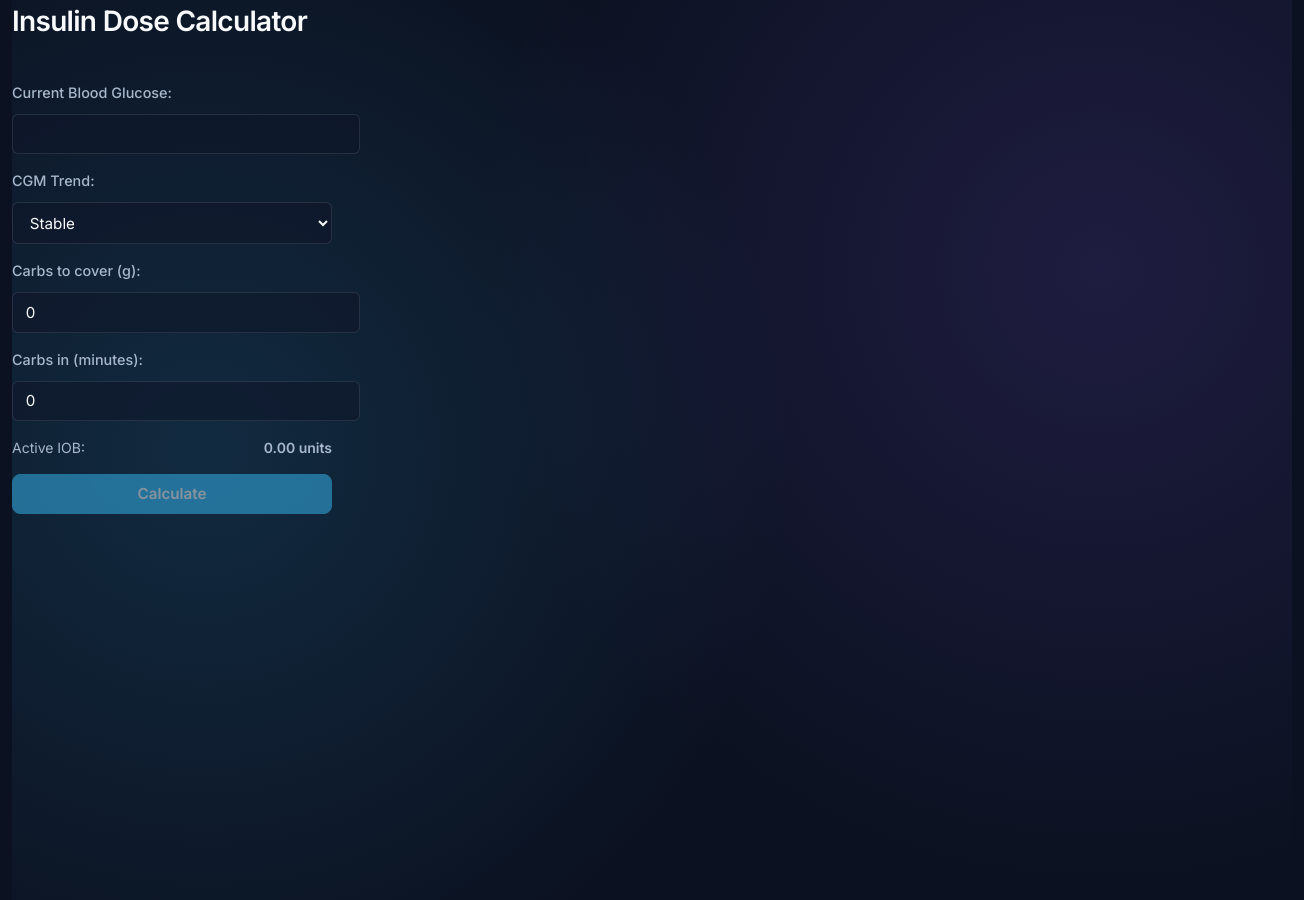
Scenario: DoseCalculator › warnings container has role=alert and aria-live=assertive
The width and height of the screenshot is (1304, 900).
Type "50" into the number field labelled "Current Blood Glucose:" at (186, 134), box [12,114,360,154]
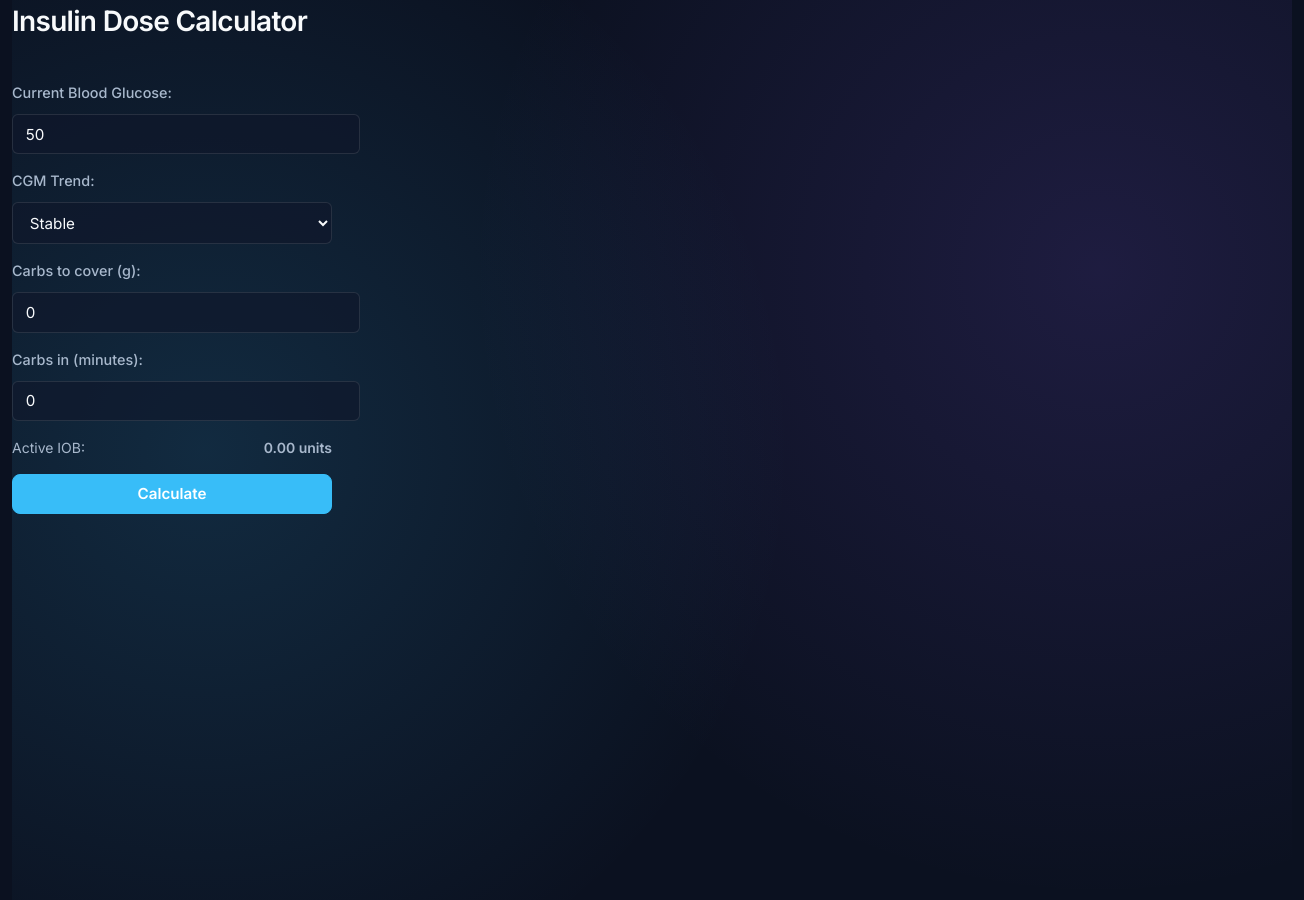
Click the button "Calculate" at (172, 494), box [12,474,332,514]
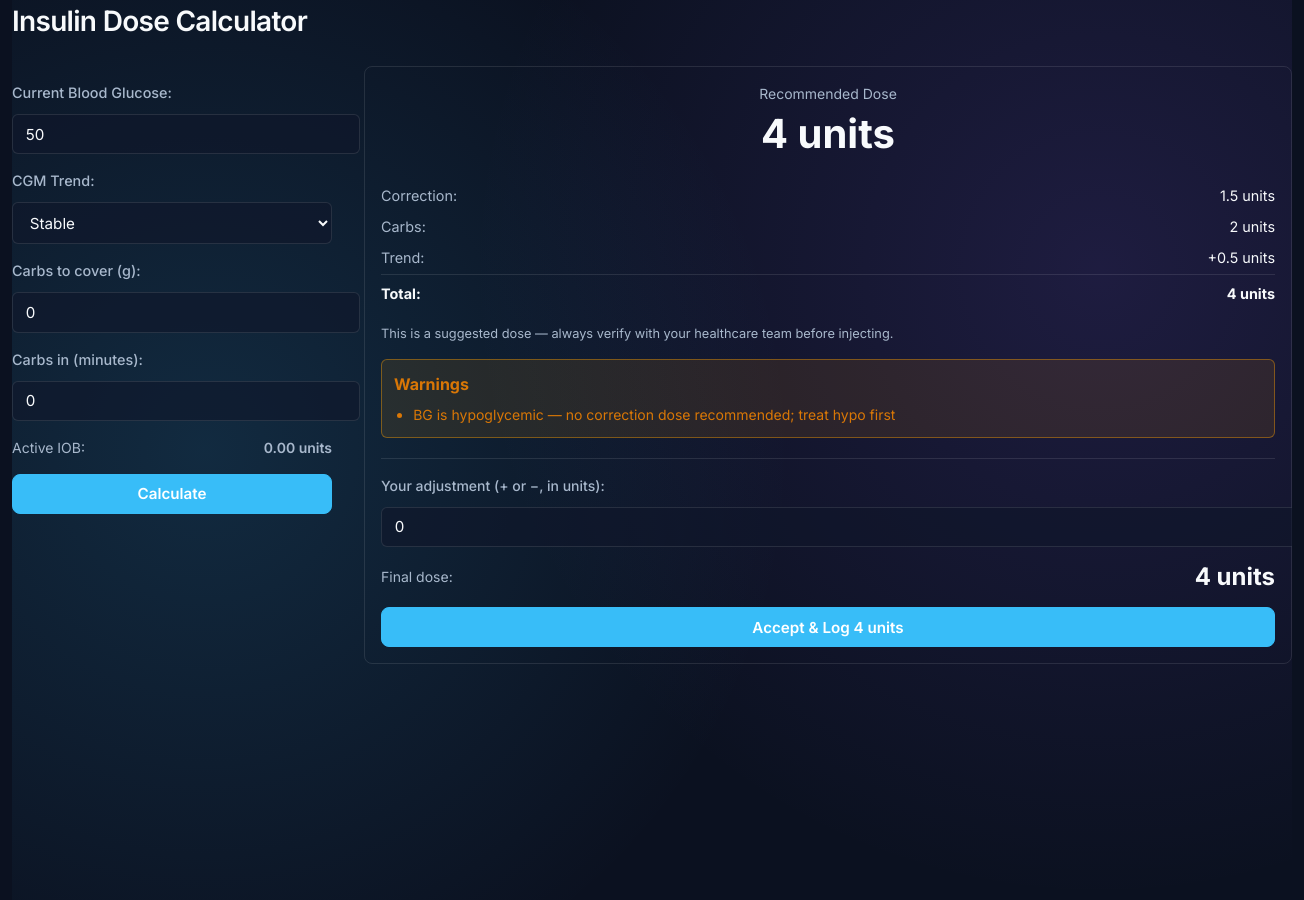
Now the list item "BG is hypoglycemic" is shown, box [413,406,895,423]
Now the message "Warnings BG is hypoglycemic — no correction dose recommended; treat hypo first" is shown, box [381,359,1275,438]
